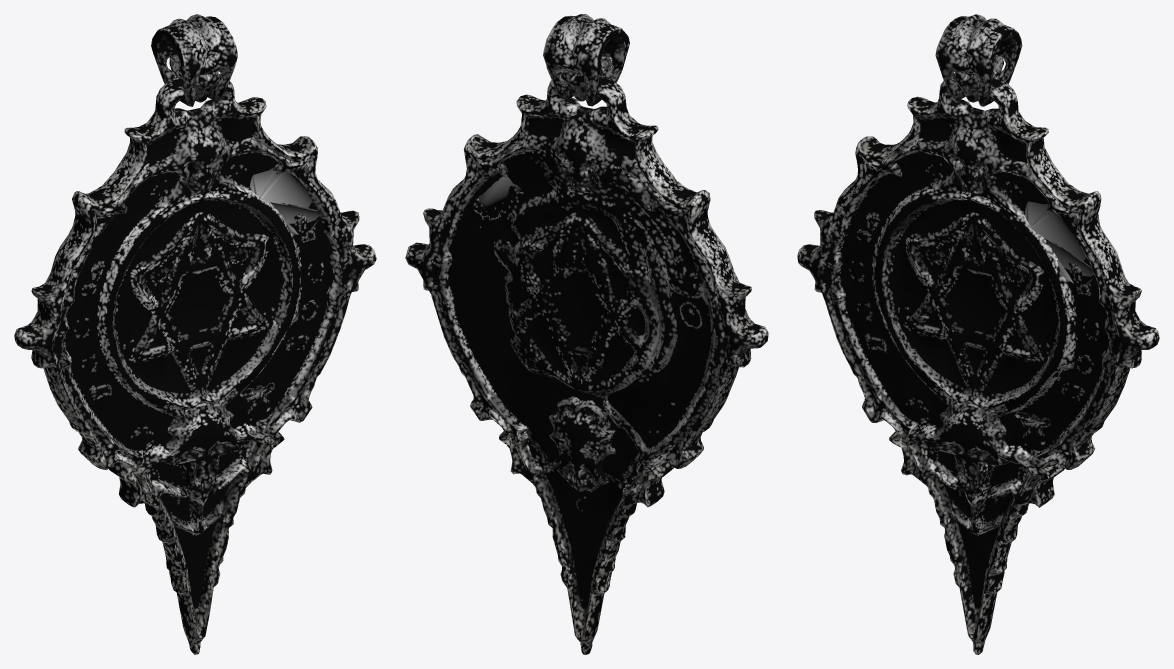
The model's file is medallion_pendant_v3_LOD1.glb.
The picture shows the model from 3 angles, left to right: view 1: azimuth 30°, elevation 25°; view 2: azimuth 150°, elevation 25°; view 3: azimuth 330°, elevation 25°; orthographic projection.
Visible parts, largest first — view 1: medallion_pendant_v3_LOD1; view 2: medallion_pendant_v3_LOD1; view 3: medallion_pendant_v3_LOD1.
Boxes of the visible parts, x1=… form: medallion_pendant_v3_LOD1: x1=14, y1=14, x2=376, y2=654; medallion_pendant_v3_LOD1: x1=405, y1=14, x2=768, y2=654; medallion_pendant_v3_LOD1: x1=797, y1=14, x2=1159, y2=654.
Bounding box in the file's own units: 0.0442 × 0.075 × 0.00771.
1 material, 1 textured.
